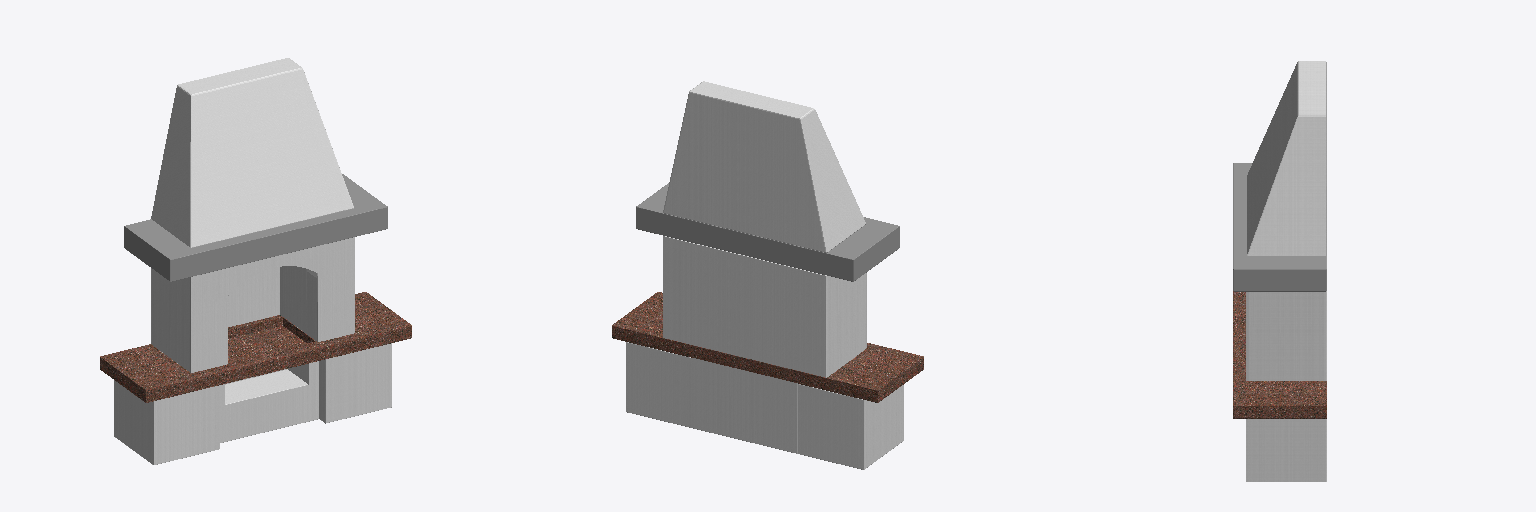
3 views of the same model, side by side, from view 1: azimuth 30°, elevation 25°; view 2: azimuth 150°, elevation 25°; view 3: azimuth 270°, elevation 25° (orthographic).
Size of the model in its own units: 2.18 by 2.63 by 0.66.
Materials: 3 (2 with a texture image).